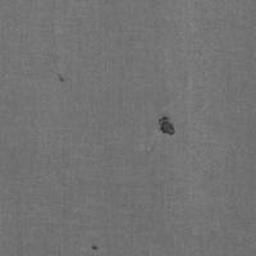Inclusion: (157, 114, 177, 136), (58, 72, 65, 83)
